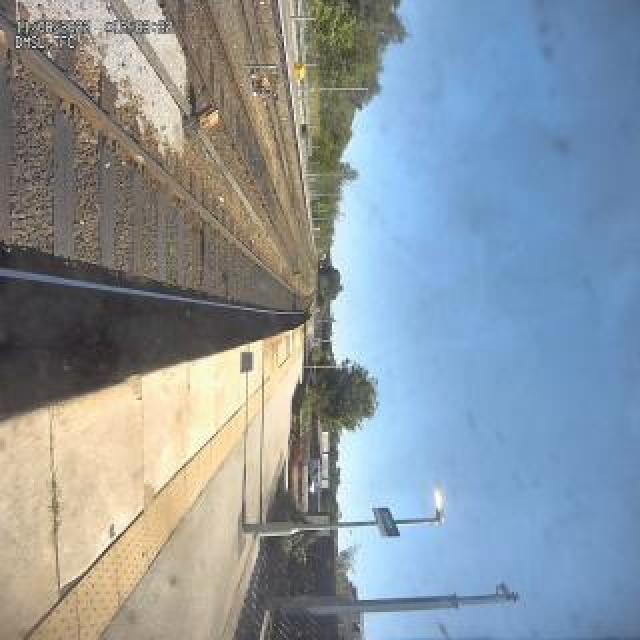Station-lights-ON: (431, 489, 447, 525)
